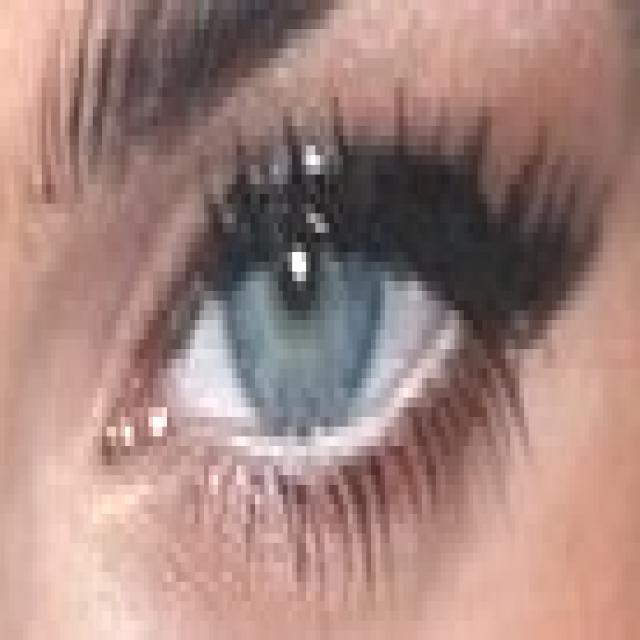Normal: (43, 64, 574, 596)
